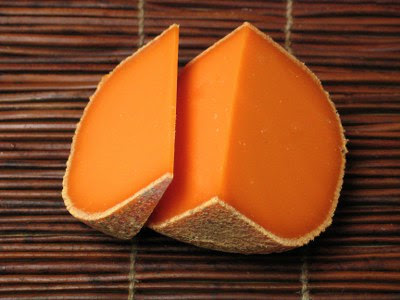cheese: (153, 32, 357, 261), (67, 28, 188, 245)
